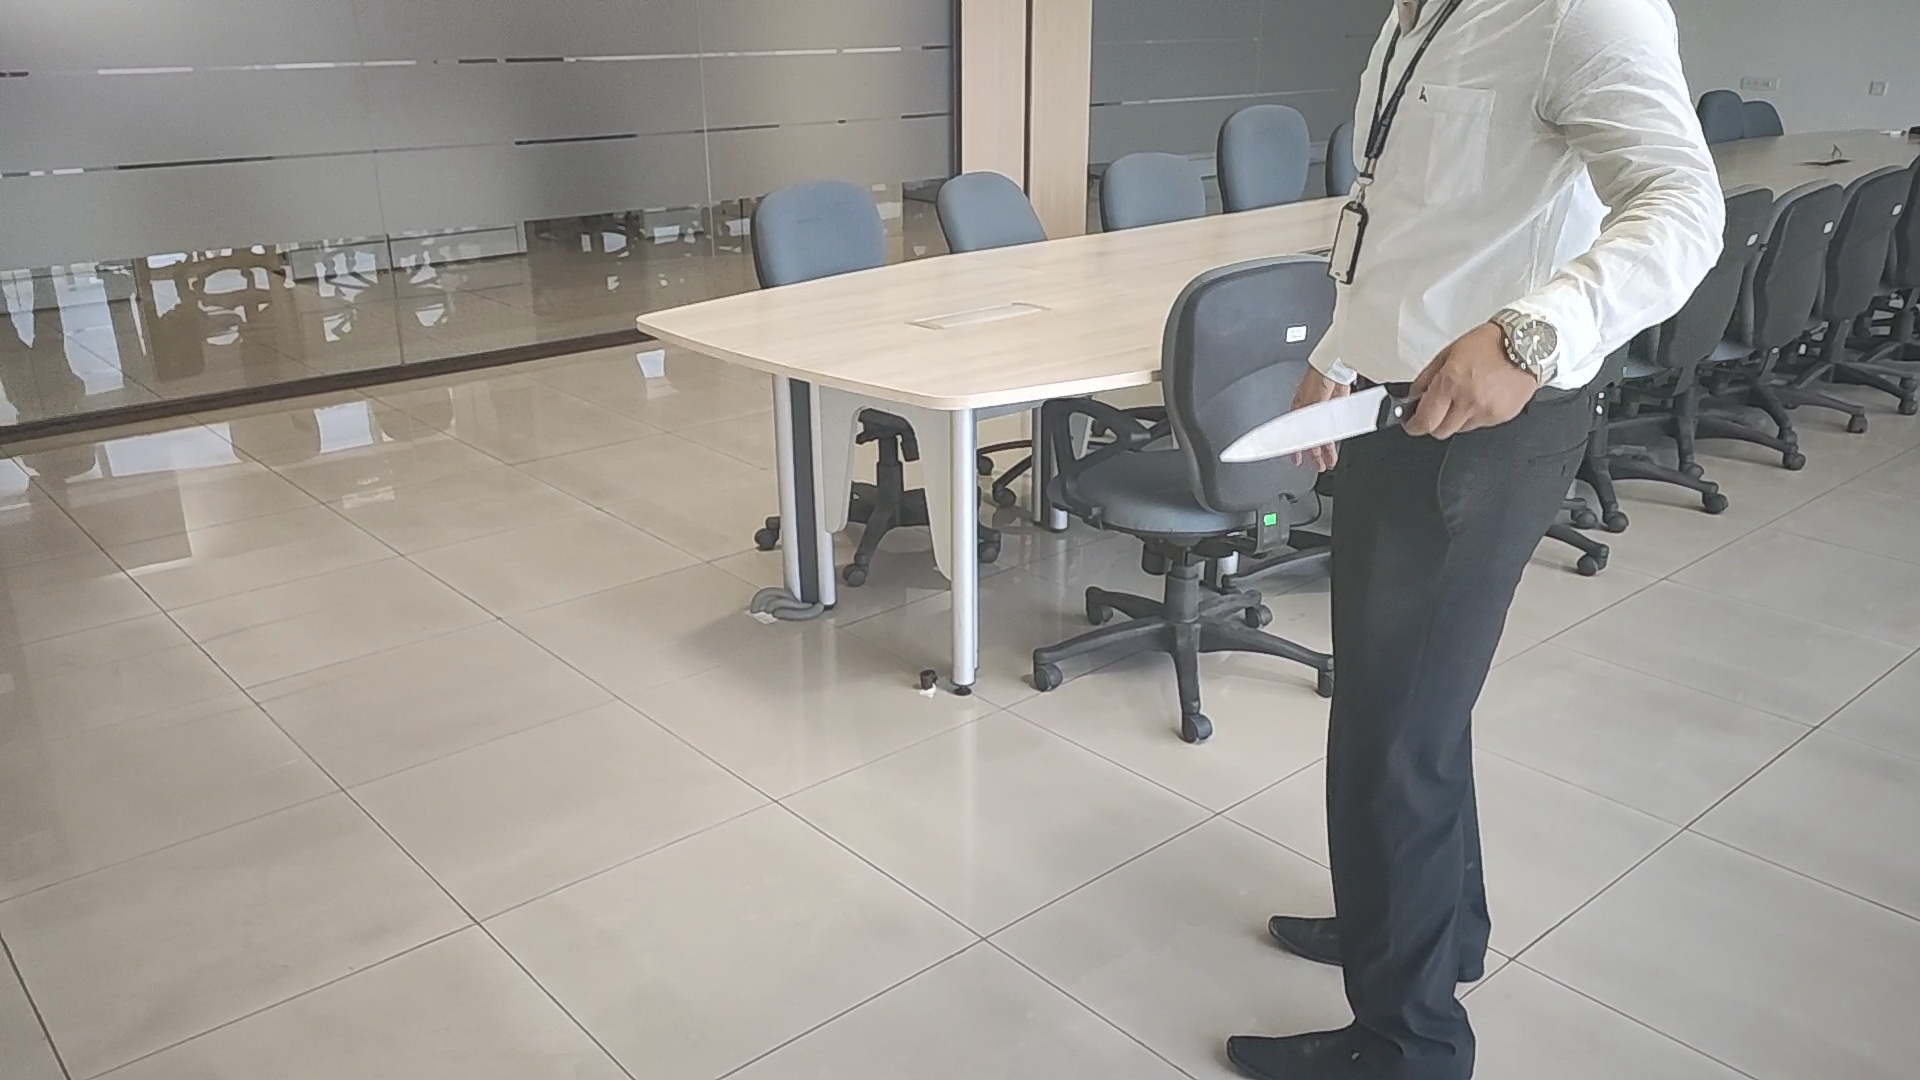knife: (1217, 378, 1418, 460)
